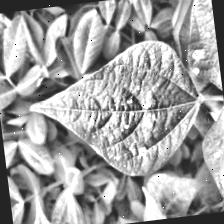Bean Rust: (23, 35, 216, 190), (180, 0, 222, 96)
